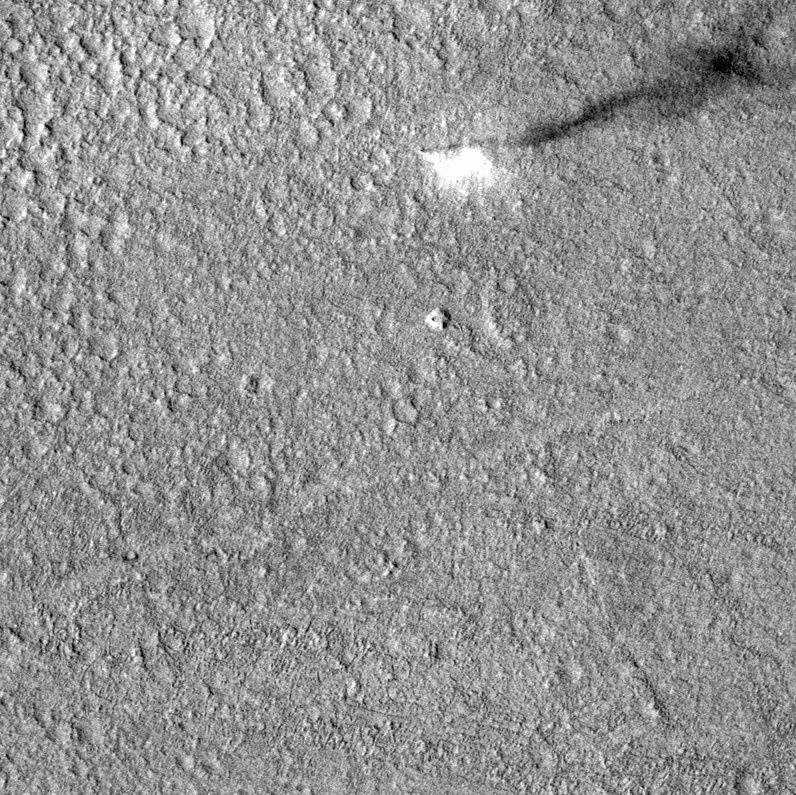dust_devil: (412, 24, 775, 199)
